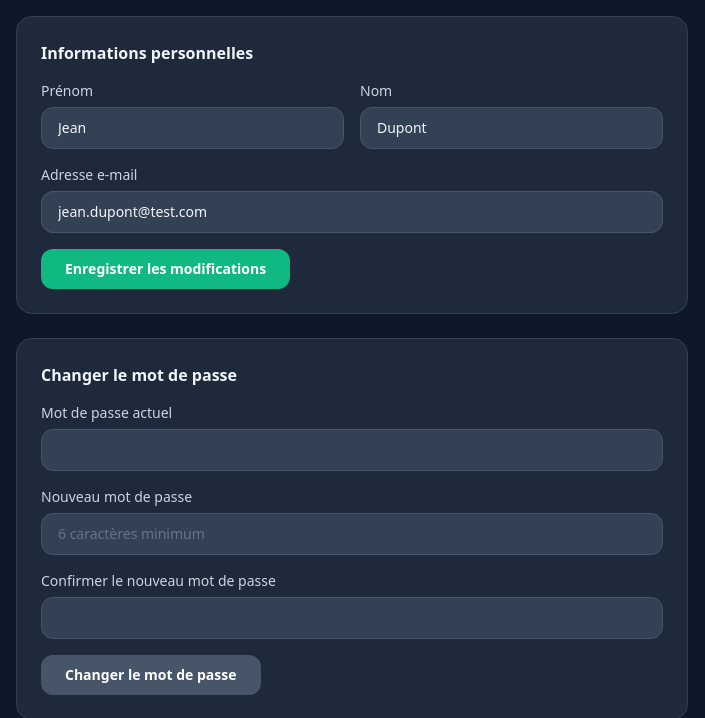
it: ProfilePage › Formulaire mot de passe › affiche une erreur si les champs sont vides
(page scrolled)
Click the button "Changer le mot de passe" at (151, 675), box 41,655 -> 260,695
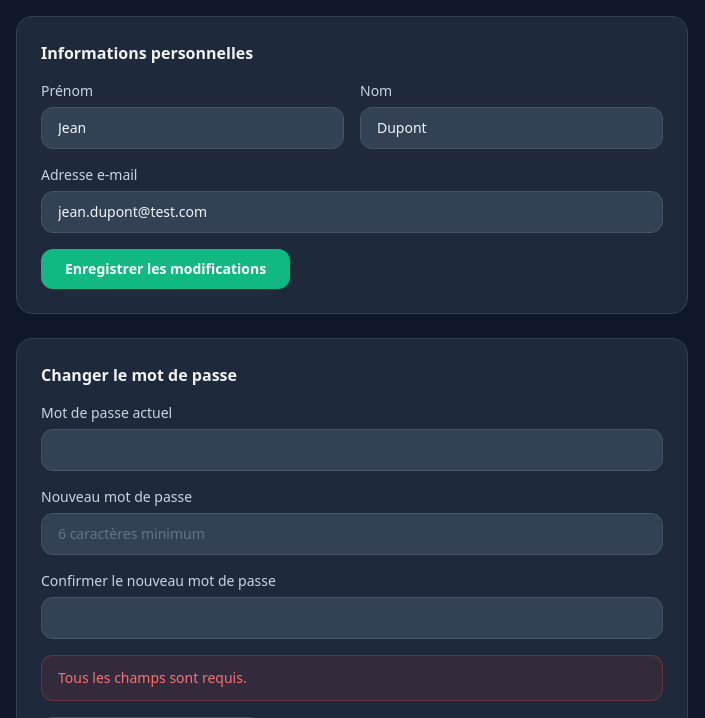
Expected: the text "Tous les champs sont requis." is shown, 41,655 -> 663,701
